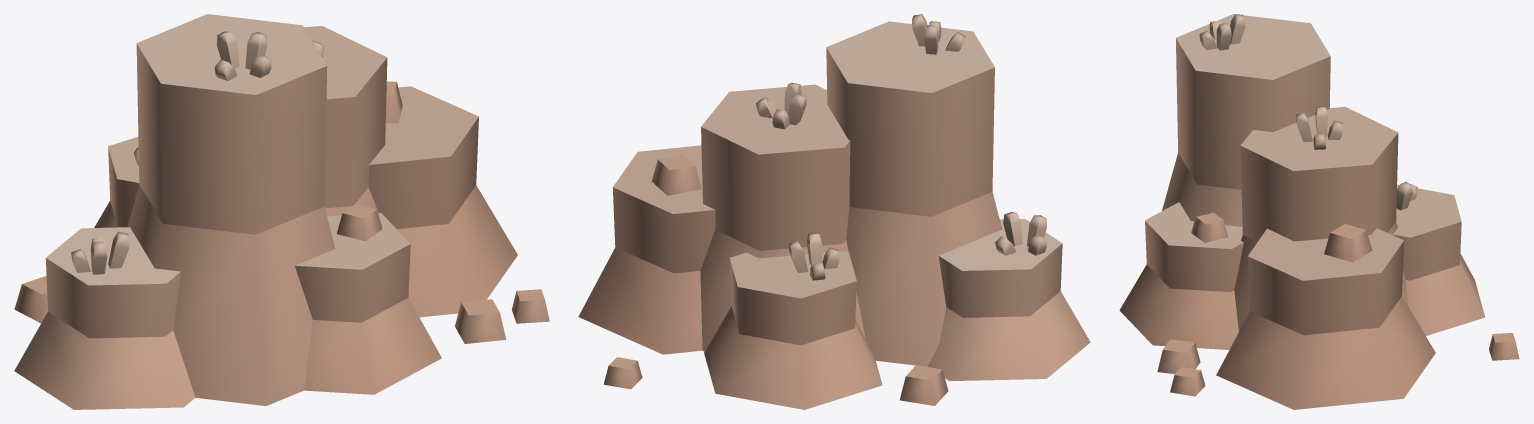
The model's file is rocks-sand-a.glb.
The picture shows the model from 3 angles, left to right: view 1: azimuth 30°, elevation 25°; view 2: azimuth 150°, elevation 25°; view 3: azimuth 270°, elevation 25°; orthographic projection. The views are drawn at different scales.
Parts seen in each view (by area): view 1: rocks-sand-a; view 2: rocks-sand-a; view 3: rocks-sand-a.
Boxes of the visible parts, left/top/right/bottom form: rocks-sand-a: left=14, top=14, right=549, bottom=409; rocks-sand-a: left=578, top=14, right=1090, bottom=409; rocks-sand-a: left=1119, top=14, right=1519, bottom=409.
Bounding box in the file's own units: 5.11 × 3.21 × 4.39.
